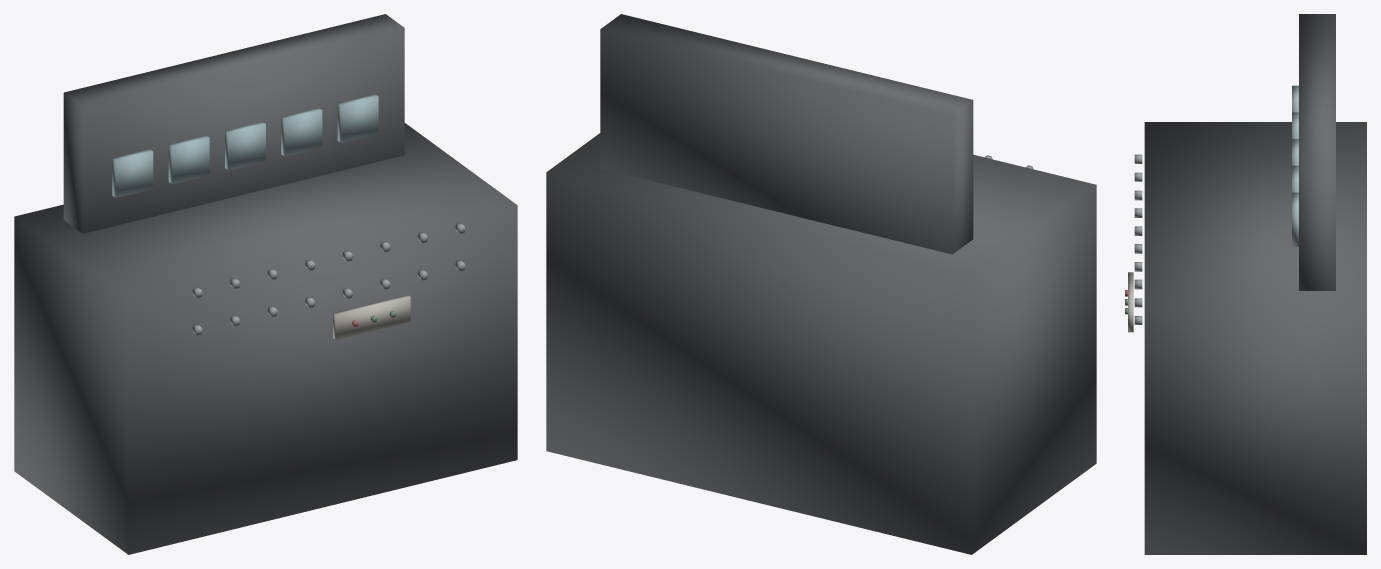
Rendered from radio_console__compact.glb.
3 renders of one model, left to right at view 1: azimuth 30°, elevation 25°; view 2: azimuth 150°, elevation 25°; view 3: azimuth 270°, elevation 25°, orthographic. The views are drawn at different scales.
Visible parts, largest first — view 1: world; view 2: world; view 3: world.
Part boxes in pixels (x1,y1,x2,y2): world: (14, 14, 517, 554); world: (546, 14, 1096, 554); world: (1125, 14, 1366, 554).
Bounding box in the file's own units: 1.22 × 1.14 × 0.6738.
